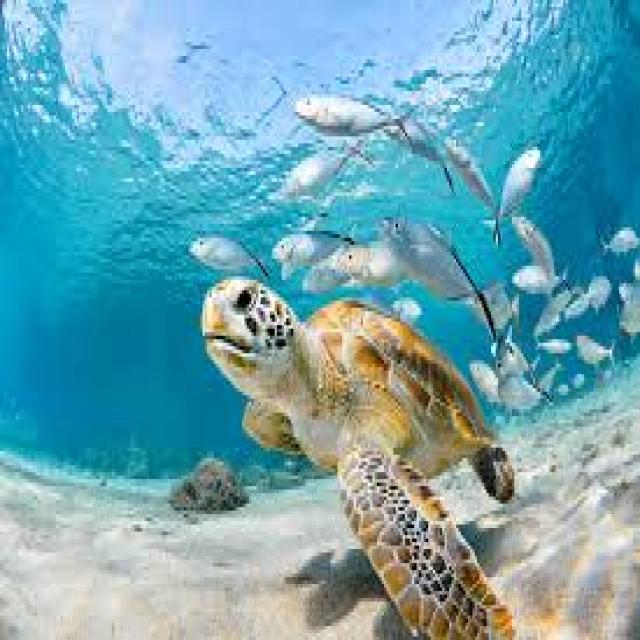Sea turtle: (181, 263, 586, 640)
